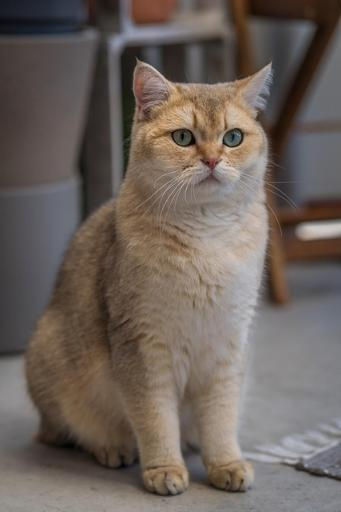cat_sitting: (27, 62, 271, 494)
